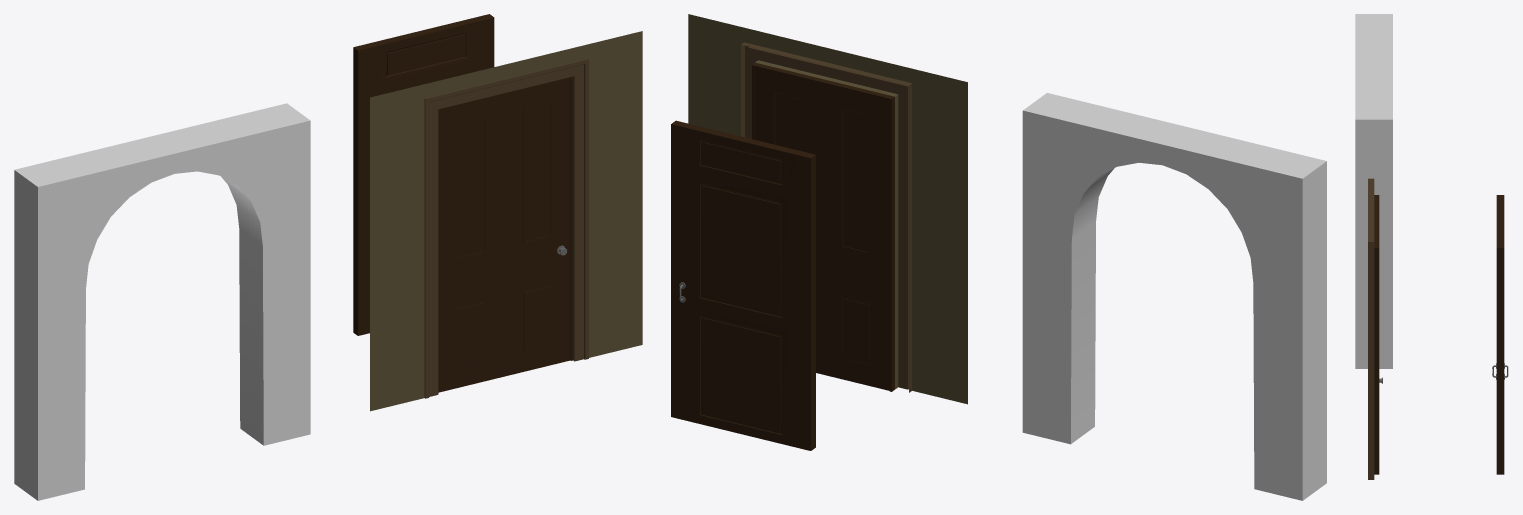
File: Porta.fbx
The picture shows the model from 3 angles, left to right: view 1: azimuth 30°, elevation 25°; view 2: azimuth 150°, elevation 25°; view 3: azimuth 270°, elevation 25°; orthographic projection. The views are drawn at different scales.
Parts seen in each view (by area): view 1: MD_Portal, MD_MolduraPorta, MD_Porta_02, MD_Porta_01; view 2: MD_Portal, MD_Porta_01, MD_MolduraPorta, MD_Porta_02; view 3: MD_Portal, MD_Porta_01, MD_MolduraPorta, MD_Porta_02.
Part boxes in pixels (x1,y1,x2,y2): MD_Portal: (14,103,310,500); MD_MolduraPorta: (370,31,642,411); MD_Porta_02: (438,76,572,392); MD_Porta_01: (353,14,494,335); MD_Portal: (1022,93,1326,500); MD_Porta_01: (671,120,815,450); MD_MolduraPorta: (688,14,967,404); MD_Porta_02: (752,62,894,391); MD_Portal: (1355,14,1392,368); MD_Porta_01: (1492,195,1508,474); MD_MolduraPorta: (1368,178,1374,479); MD_Porta_02: (1374,195,1382,474).
Size of the model in its own units: 450 by 220 by 122.
